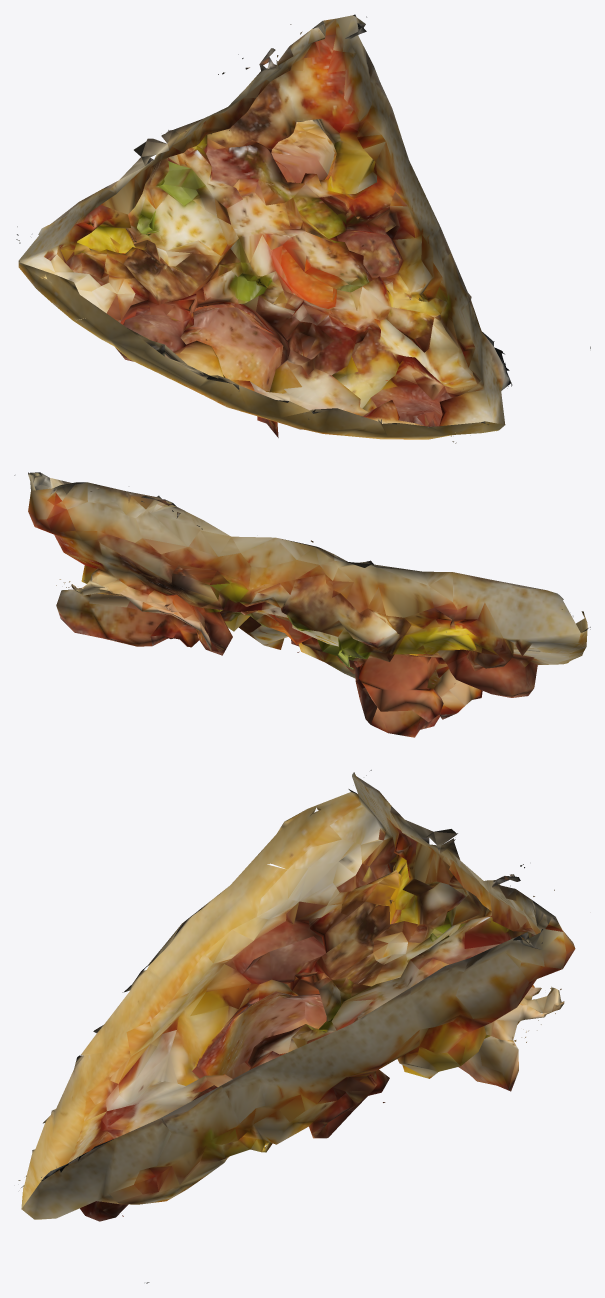
File: pizza_2957.obj
3 renders of one model, top to bottom at view 1: azimuth 30°, elevation 25°; view 2: azimuth 150°, elevation 25°; view 3: azimuth 270°, elevation 25°, orthographic. The views are drawn at different scales.
Bounding box in the file's own units: 1.61 × 0.8372 × 1.27.
Materials: 1 (1 with a texture image).
